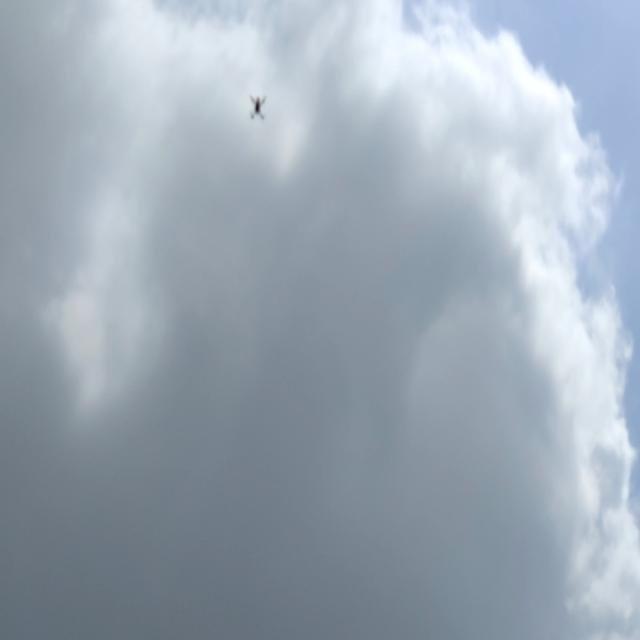drone: (245, 86, 272, 132)
